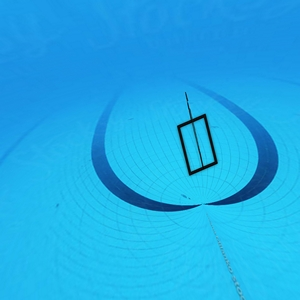circle: (177, 89, 221, 179)
